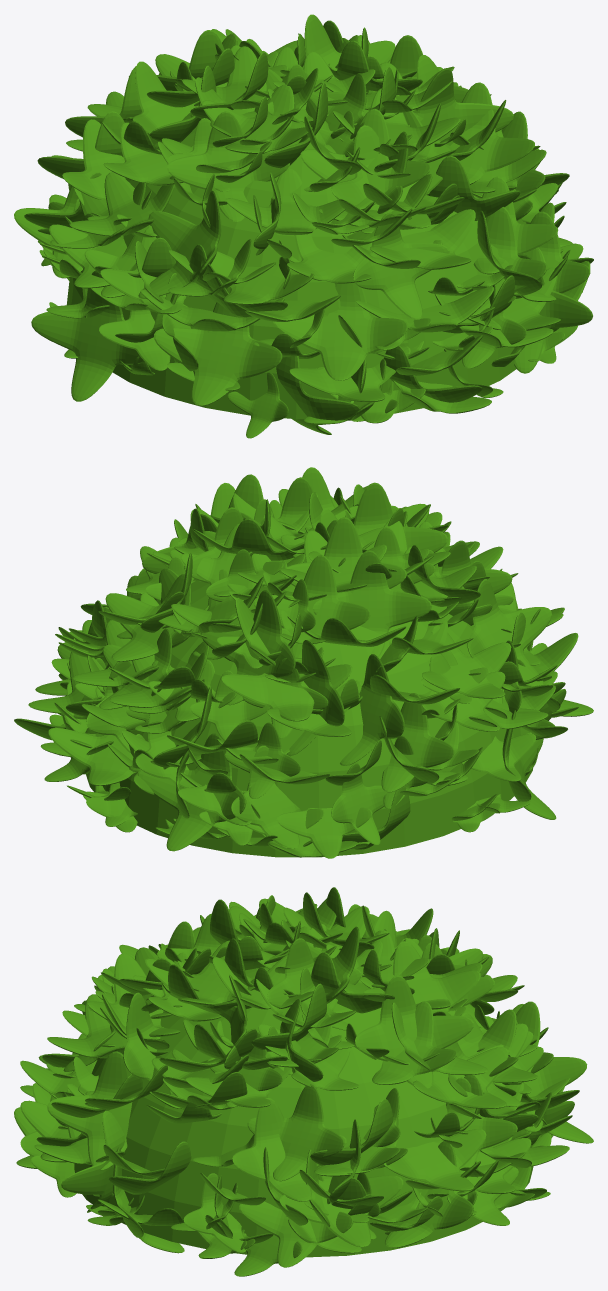
File: puera javanica4 .fbx
3 renders of one model, top to bottom at view 1: azimuth 30°, elevation 25°; view 2: azimuth 150°, elevation 25°; view 3: azimuth 270°, elevation 25°, orthographic. The views are drawn at different scales.
Parts seen in each view (by area): view 1: Sphere.001, Sphere.001|Cube|Dupli|40, Sphere.001|Cube|Dupli|165, Sphere.001|Cube|Dupli|45, Sphere.001|Cube|Dupli|242, Sphere.001|Cube|Dupli|247, Sphere.001|Cube|Dupli|241, Sphere.001|Cube|Dupli|266, Sphere.001|Cube|Dupli|10, Sphere.001|Cube|Dupli|94, Sphere.001|Cube|Dupli|116, Sphere.001|Cube|Dupli|233 (+83 smaller); view 2: Sphere.001, Sphere.001|Cube|Dupli|201, Sphere.001|Cube|Dupli|118, Sphere.001|Cube|Dupli|247, Sphere.001|Cube|Dupli|63, Sphere.001|Cube|Dupli|141, Sphere.001|Cube|Dupli|, Sphere.001|Cube|Dupli|97, Sphere.001|Cube|Dupli|182, Sphere.001|Cube|Dupli|266, Sphere.001|Cube|Dupli|46, Sphere.001|Cube|Dupli|88 (+78 smaller); view 3: Sphere.001, Sphere.001|Cube|Dupli|177, Sphere.001|Cube|Dupli|168, Sphere.001|Cube|Dupli|4, Sphere.001|Cube|Dupli|240, Sphere.001|Cube|Dupli|37, Sphere.001|Cube|Dupli|150, Sphere.001|Cube|Dupli|227, Sphere.001|Cube|Dupli|239, Sphere.001|Cube|Dupli|57, Sphere.001|Cube|Dupli|62, Sphere.001|Cube|Dupli|41 (+89 smaller).
Boxes of the visible parts, x1,y1,x2,y2 form: Sphere.001: (66, 109, 530, 419); Sphere.001|Cube|Dupli|40: (154, 288, 282, 405); Sphere.001|Cube|Dupli|165: (273, 282, 408, 380); Sphere.001|Cube|Dupli|45: (31, 270, 144, 401); Sphere.001|Cube|Dupli|242: (167, 111, 289, 221); Sphere.001|Cube|Dupli|247: (138, 190, 221, 298); Sphere.001|Cube|Dupli|241: (353, 212, 449, 319); Sphere.001|Cube|Dupli|266: (69, 172, 176, 236); Sphere.001|Cube|Dupli|10: (450, 82, 534, 184); Sphere.001|Cube|Dupli|94: (370, 209, 475, 269); Sphere.001|Cube|Dupli|116: (300, 109, 431, 209); Sphere.001|Cube|Dupli|233: (225, 168, 345, 235); Sphere.001: (86, 557, 532, 857); Sphere.001|Cube|Dupli|201: (313, 550, 431, 657); Sphere.001|Cube|Dupli|118: (137, 733, 246, 851); Sphere.001|Cube|Dupli|247: (467, 579, 551, 686); Sphere.001|Cube|Dupli|63: (253, 555, 370, 658); Sphere.001|Cube|Dupli|141: (221, 628, 352, 721); Sphere.001|Cube|Dupli|: (200, 590, 295, 705); Sphere.001|Cube|Dupli|97: (381, 693, 454, 792); Sphere.001|Cube|Dupli|182: (340, 654, 404, 765); Sphere.001|Cube|Dupli|266: (422, 625, 511, 698); Sphere.001|Cube|Dupli|46: (105, 574, 193, 661); Sphere.001|Cube|Dupli|88: (48, 727, 136, 785); Sphere.001: (74, 949, 533, 1257); Sphere.001|Cube|Dupli|177: (355, 975, 474, 1088); Sphere.001|Cube|Dupli|168: (247, 1084, 344, 1181); Sphere.001|Cube|Dupli|4: (47, 1051, 132, 1170); Sphere.001|Cube|Dupli|240: (383, 1129, 486, 1191); Sphere.001|Cube|Dupli|37: (232, 1098, 346, 1201); Sphere.001|Cube|Dupli|150: (239, 1175, 353, 1267); Sphere.001|Cube|Dupli|227: (364, 941, 480, 1015); Sphere.001|Cube|Dupli|239: (372, 1001, 457, 1084); Sphere.001|Cube|Dupli|57: (384, 1141, 473, 1248); Sphere.001|Cube|Dupli|62: (279, 1165, 403, 1246); Sphere.001|Cube|Dupli|41: (413, 1047, 508, 1108).
Size of the model in its own units: 216 by 122 by 226.
